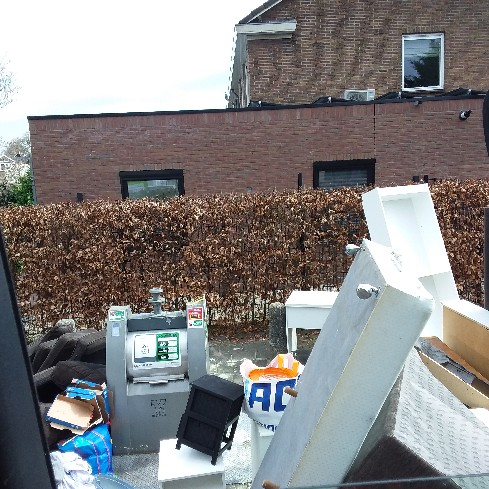Container: (112, 308, 201, 450)
Papier: (55, 385, 105, 445)
Rest: (248, 265, 369, 489), (381, 191, 486, 362), (382, 368, 489, 489), (190, 368, 240, 474), (31, 422, 108, 469), (38, 324, 102, 376)
